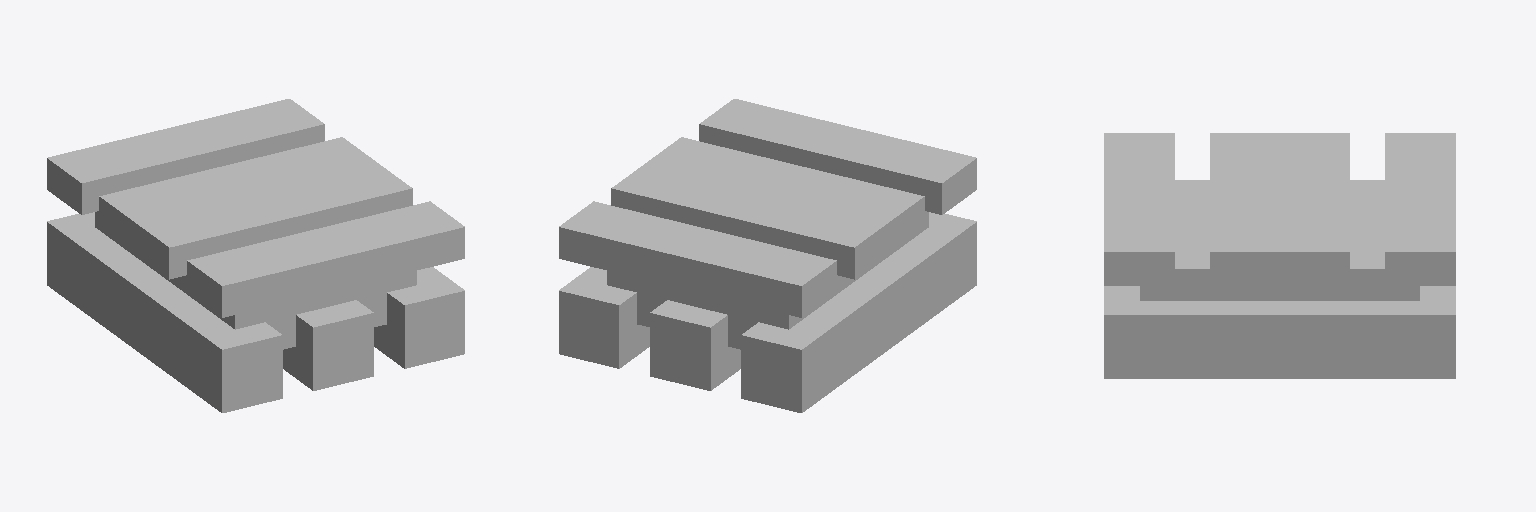
File: RocketBot_LOD1-3.obj
3 views of the same model, side by side, from view 1: azimuth 30°, elevation 25°; view 2: azimuth 150°, elevation 25°; view 3: azimuth 270°, elevation 25° (orthographic).
Parts seen in each view (by area): view 1: object 1; view 2: object 1; view 3: object 1.
Part boxes in pixels (left/top/right/bottom): object 1: left=47, top=99, right=464, bottom=412; object 1: left=559, top=99, right=976, bottom=412; object 1: left=1104, top=133, right=1455, bottom=378.
Size of the model in its own units: 0.8 by 0.4 by 1.